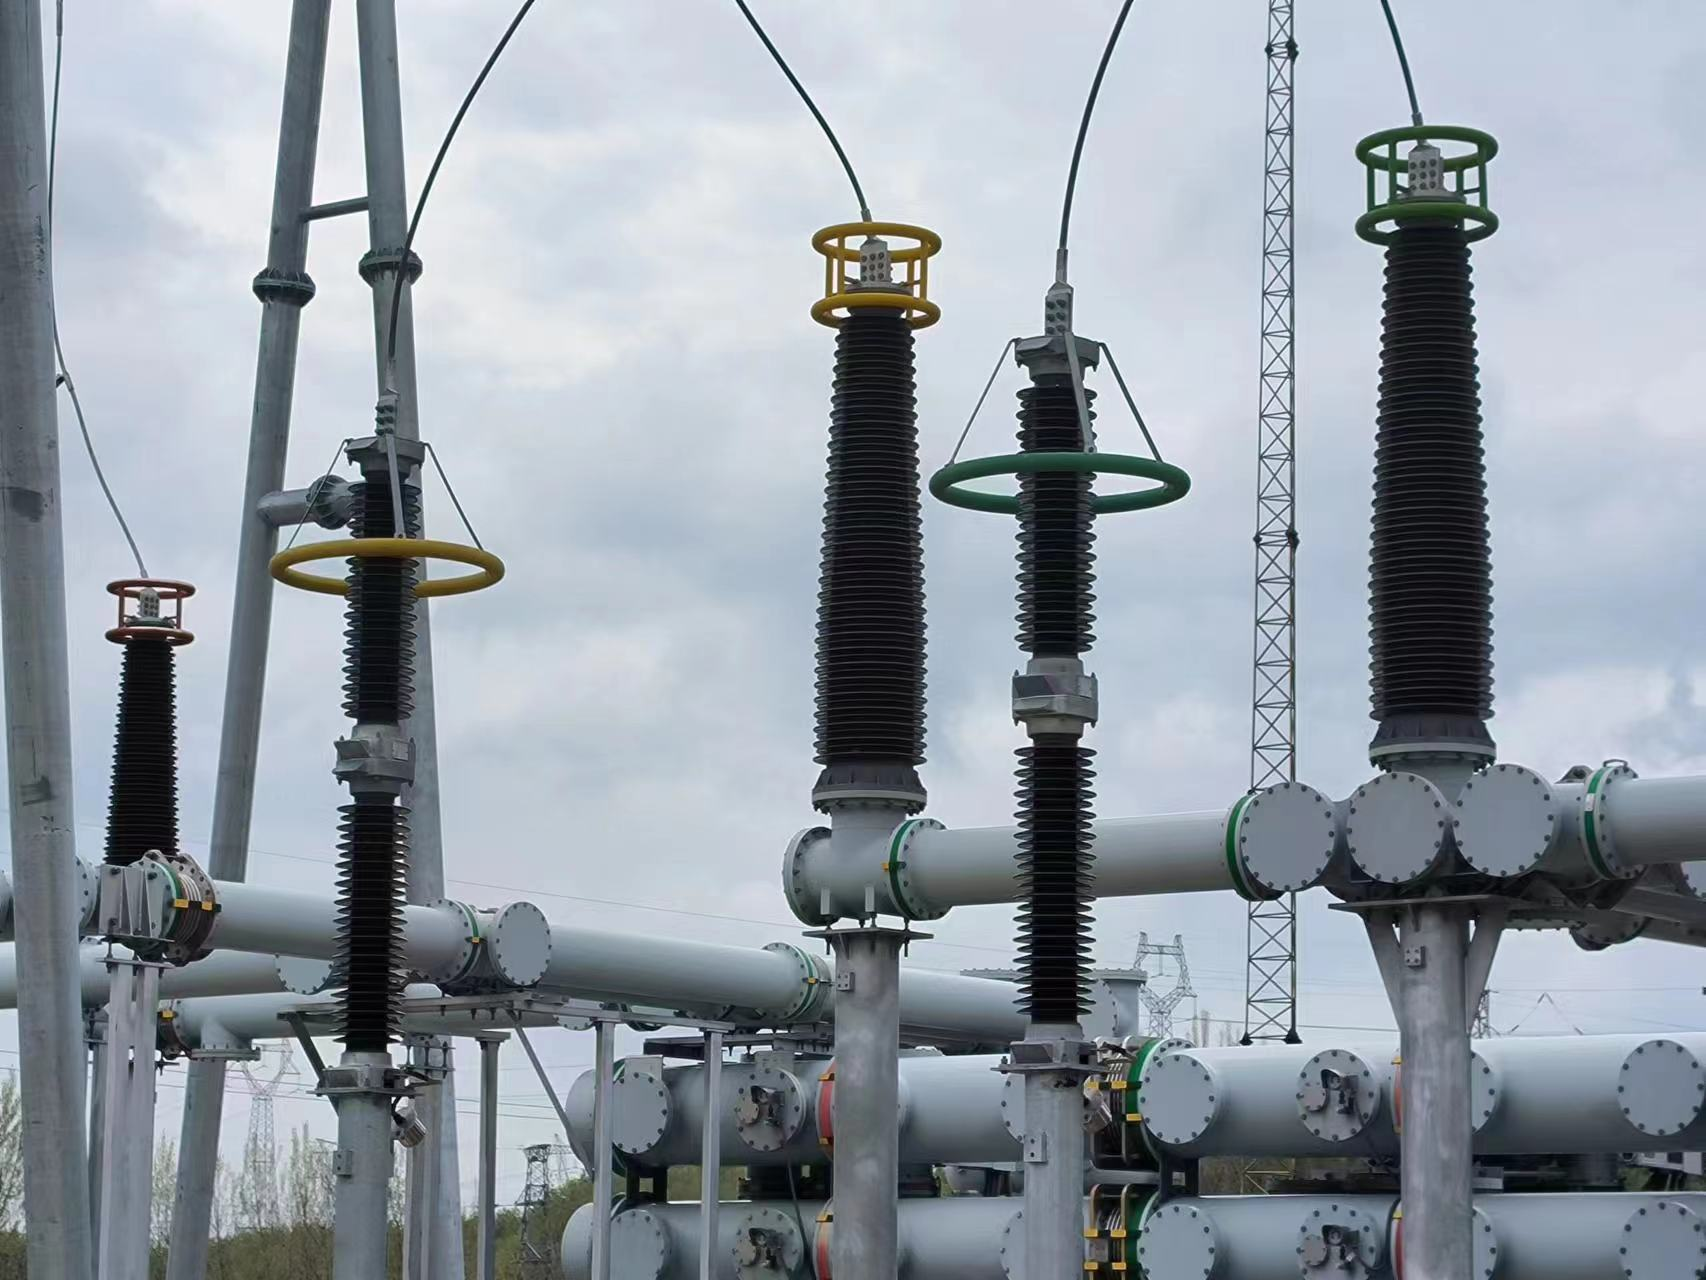Arrester: (928, 333, 1192, 1058), (268, 437, 508, 1098)
Voltage transformer: (1344, 121, 1511, 761), (804, 212, 944, 819), (93, 574, 208, 877)
